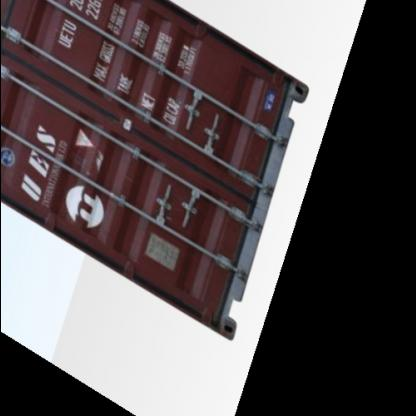Damage: (62, 141, 109, 177)
